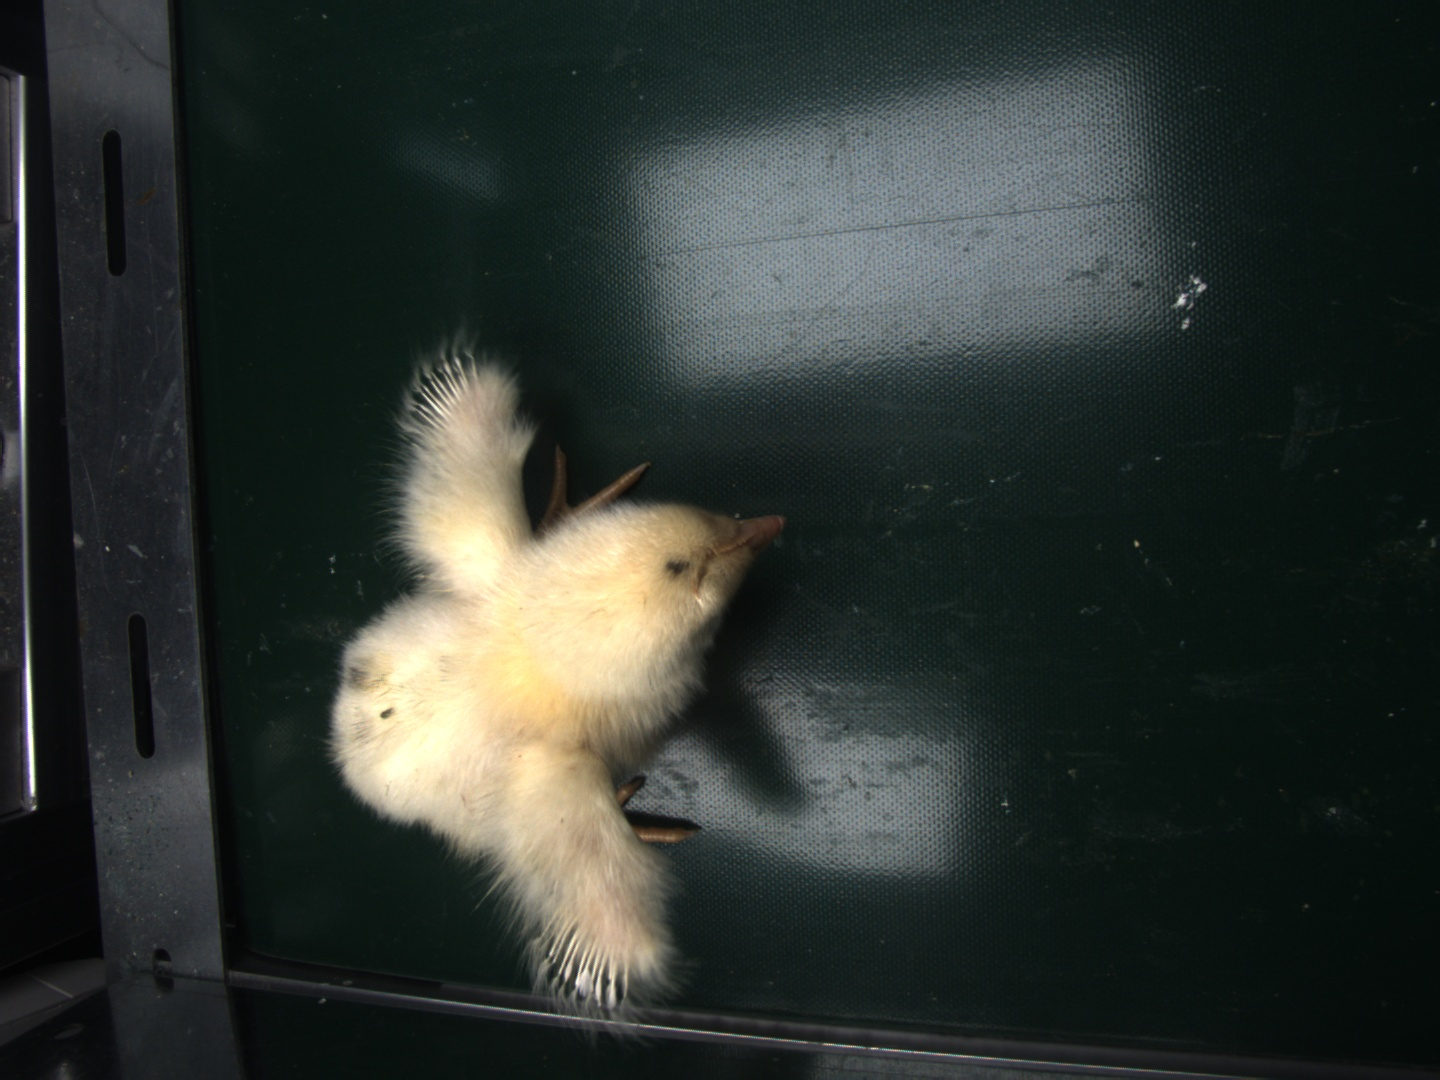male: (539, 917, 626, 1004), (412, 358, 478, 436)
